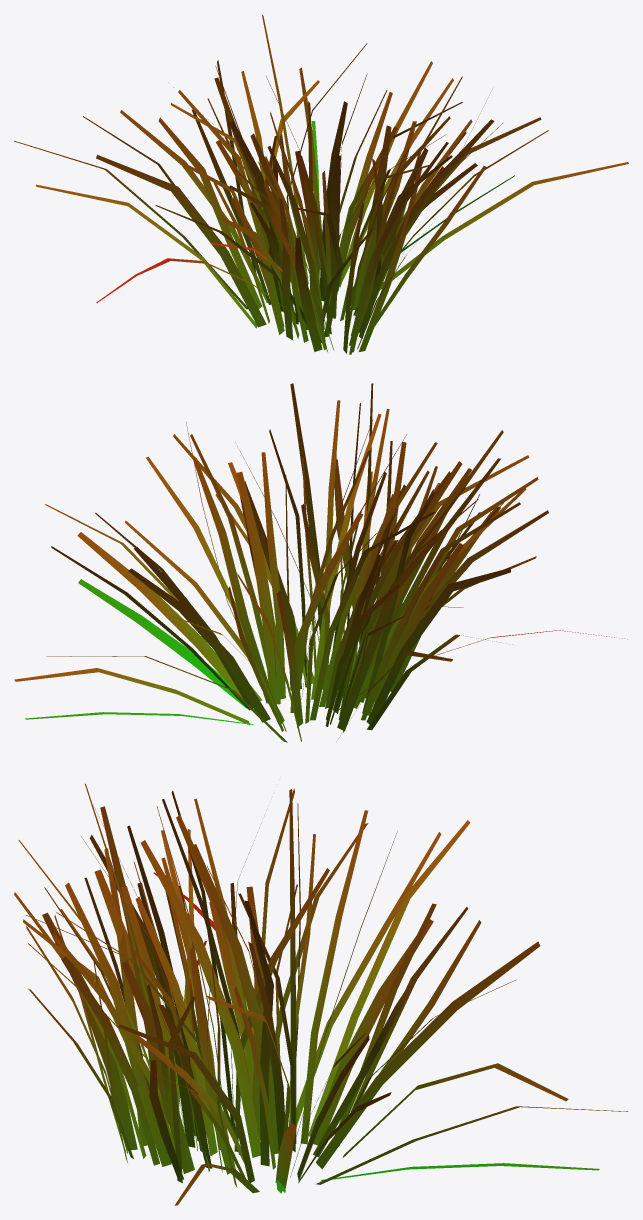
Rendered from Var8_LOD3.fbx.
The picture shows the model from 3 angles, top to bottom: view 1: azimuth 30°, elevation 25°; view 2: azimuth 150°, elevation 25°; view 3: azimuth 270°, elevation 25°; orthographic projection. The views are drawn at different scales.
Visible parts, largest first — view 1: _4boa_Var8_LOD3; view 2: _4boa_Var8_LOD3; view 3: _4boa_Var8_LOD3.
Part boxes in pixels (x1,y1,x2,y2): _4boa_Var8_LOD3: (14, 15, 628, 354); _4boa_Var8_LOD3: (14, 383, 627, 742); _4boa_Var8_LOD3: (14, 784, 628, 1205).
Bounding box in the file's own units: 25.38 × 11.21 × 19.67.
